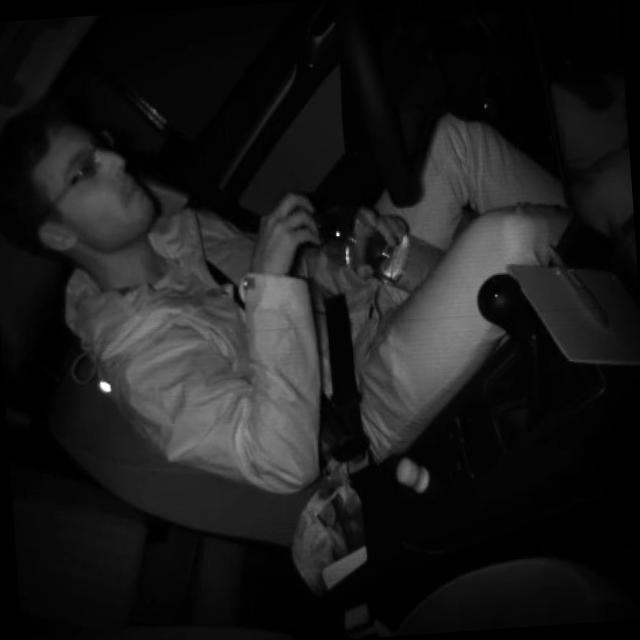pen: (542, 232, 615, 336)
